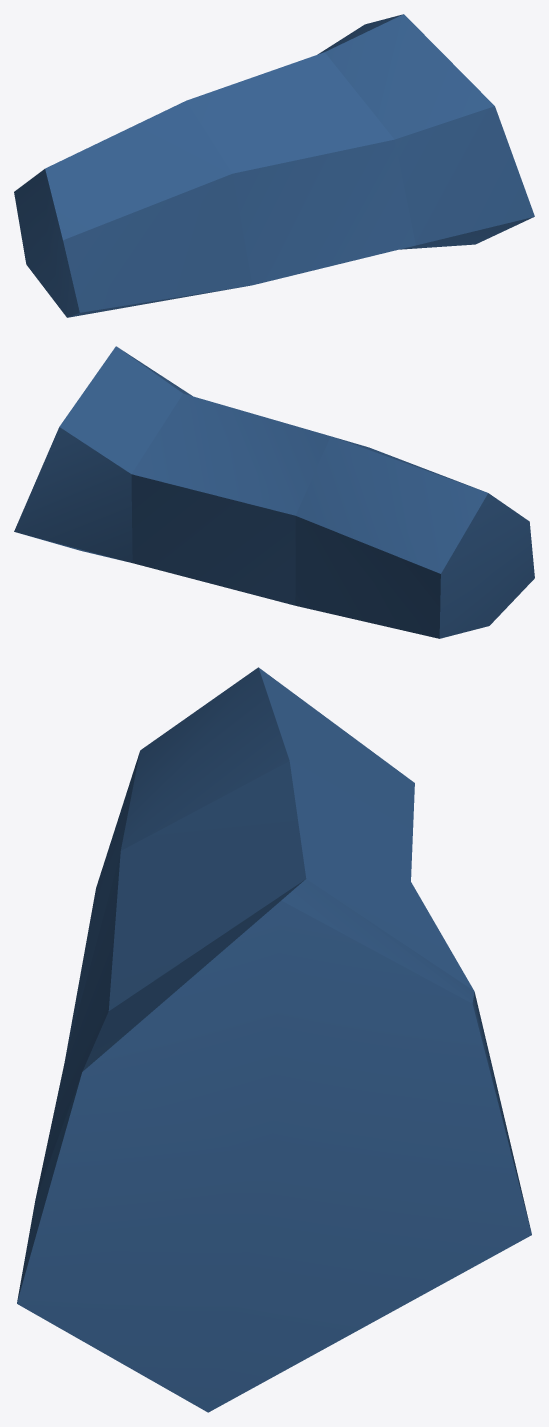
The model's file is Arm_R_Cop.glb.
The picture shows the model from 3 angles, top to bottom: view 1: azimuth 30°, elevation 25°; view 2: azimuth 150°, elevation 25°; view 3: azimuth 270°, elevation 25°; orthographic projection. The views are drawn at different scales.
Parts seen in each view (by area): view 1: Arm_R_Cop; view 2: Arm_R_Cop; view 3: Arm_R_Cop.
Part boxes in pixels (x1,y1,x2,y2): Arm_R_Cop: (14,14,534,317); Arm_R_Cop: (14,346,534,638); Arm_R_Cop: (17,667,531,1412).
Bounding box in the file's own units: 0.3252 × 0.1621 × 0.1645.
1 material, 1 textured.
